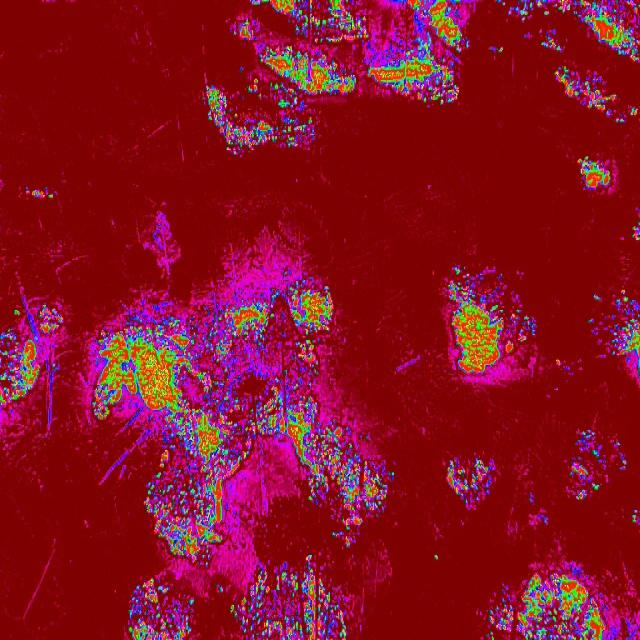fire: (87, 280, 396, 548), (200, 0, 368, 152), (231, 552, 357, 640), (370, 0, 472, 106), (444, 262, 537, 376), (482, 562, 616, 640), (0, 303, 65, 412), (554, 63, 640, 123), (559, 0, 640, 62), (588, 284, 640, 378), (568, 425, 628, 501), (127, 579, 194, 640), (442, 457, 495, 511), (572, 154, 615, 193), (168, 548, 214, 570), (495, 0, 558, 16), (25, 184, 56, 202), (536, 31, 560, 51), (632, 208, 640, 244), (630, 506, 640, 526), (488, 44, 504, 54), (282, 265, 295, 277), (538, 512, 548, 523), (432, 552, 441, 564), (216, 584, 225, 595)
